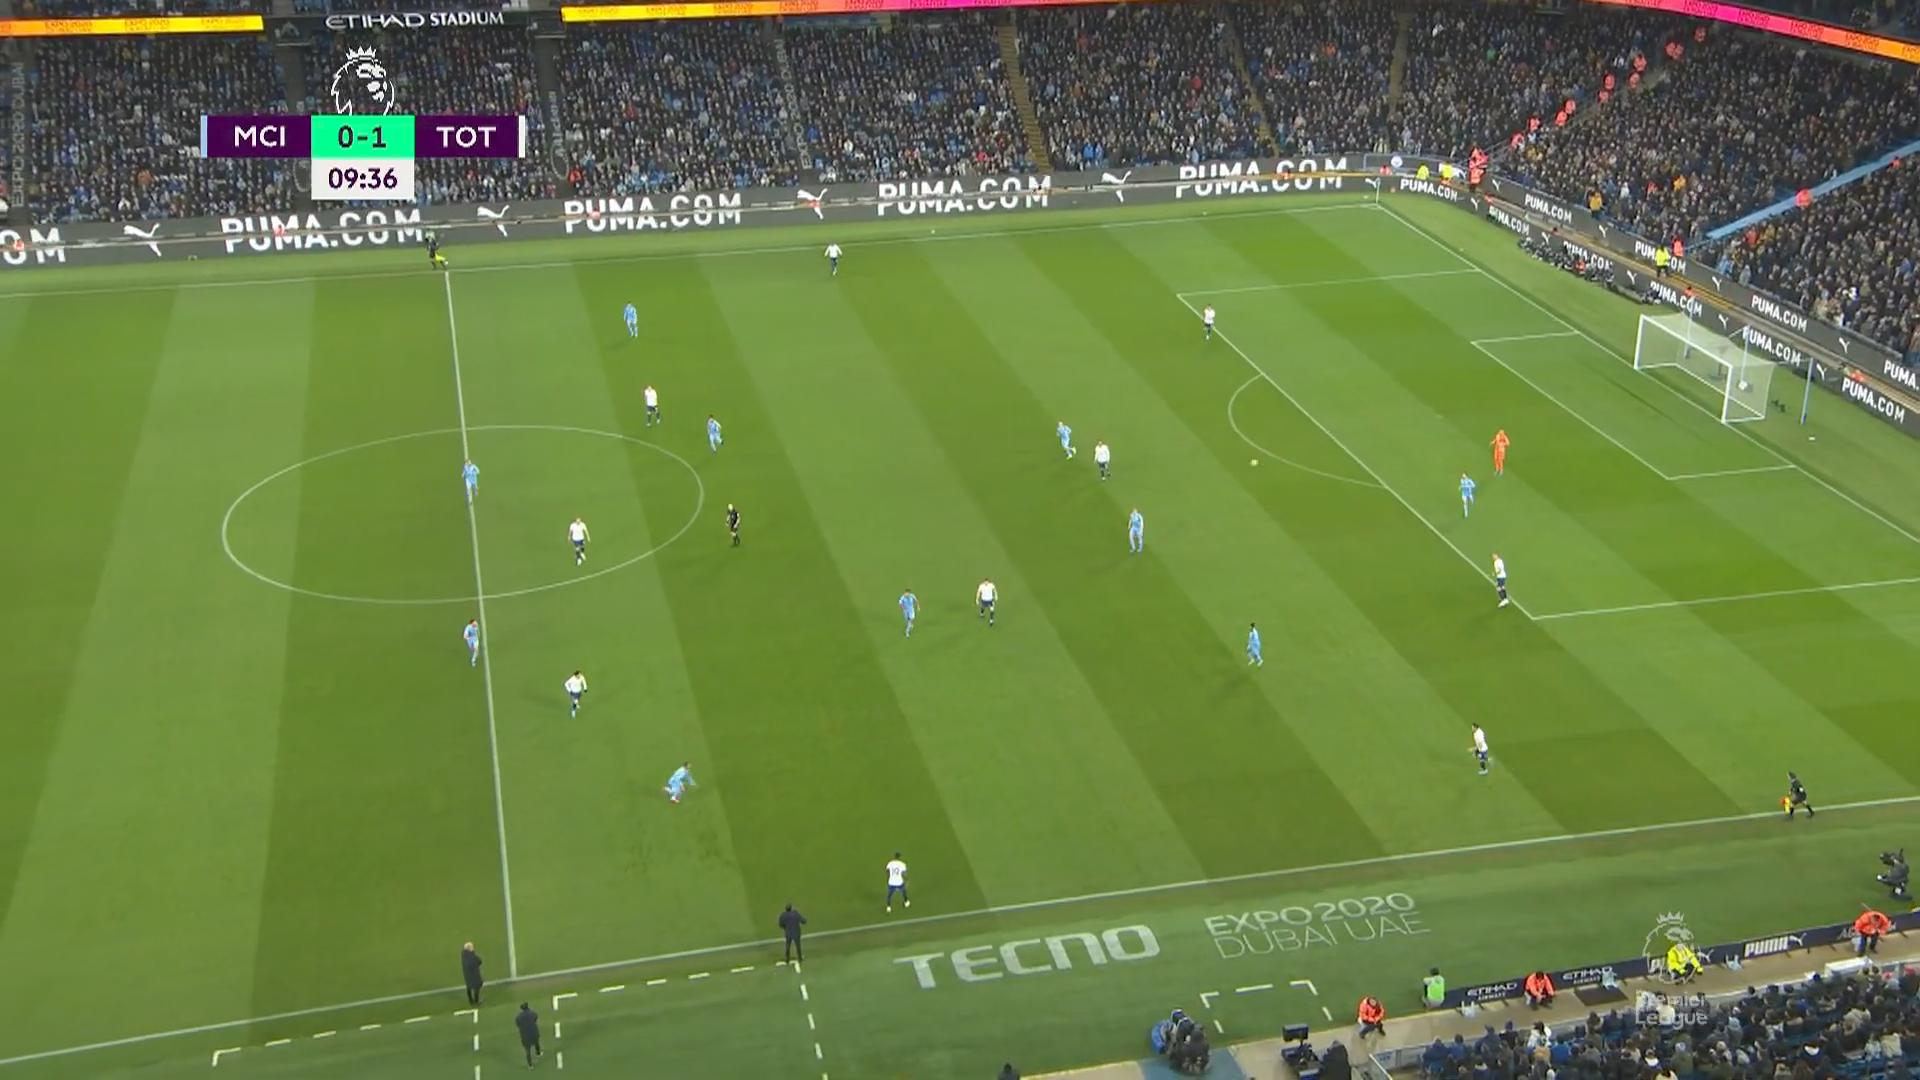ball: (1249, 459, 1259, 467)
goalkeeper: (1489, 427, 1509, 474)
player: (661, 759, 696, 804), (884, 852, 910, 912), (563, 669, 587, 718), (567, 515, 590, 566), (1468, 721, 1490, 774), (1490, 551, 1509, 607), (975, 577, 997, 625), (897, 588, 918, 637), (462, 617, 480, 667), (461, 458, 479, 504), (1055, 420, 1076, 459), (1126, 507, 1144, 552), (1245, 622, 1263, 667), (1458, 471, 1475, 518), (642, 383, 660, 427), (1093, 438, 1111, 480), (705, 414, 723, 452), (823, 241, 842, 276), (624, 302, 640, 339), (1201, 303, 1216, 340)
referee: (1780, 769, 1814, 818), (724, 502, 741, 546)
staff: (777, 901, 806, 970), (515, 1001, 543, 1067), (460, 940, 484, 1006)
